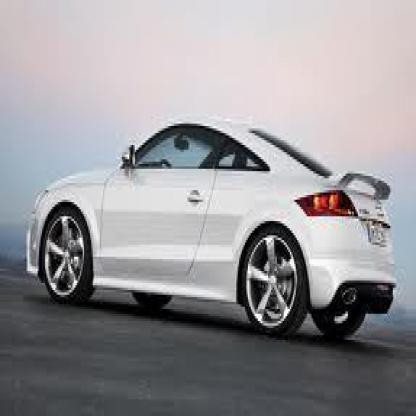Vehicle: (25, 116, 406, 342)
